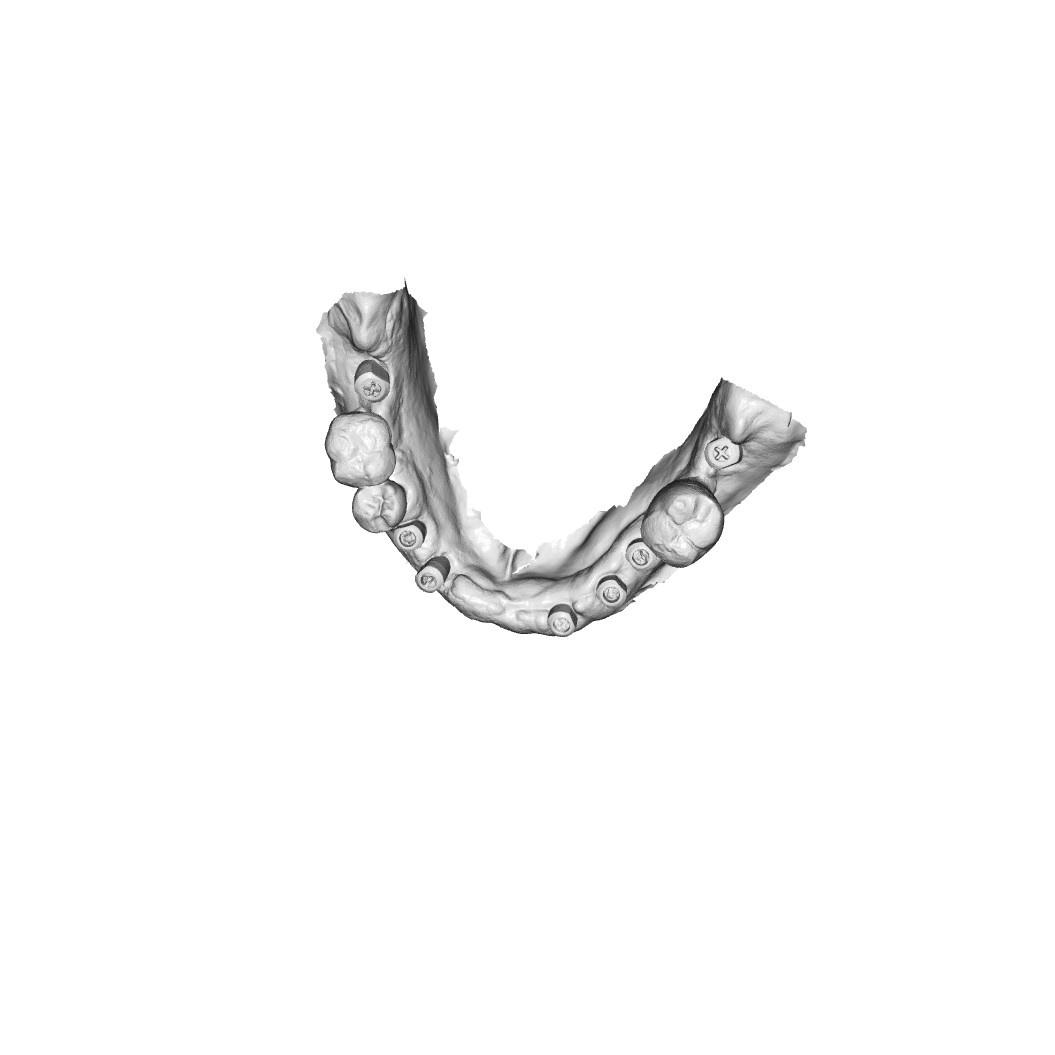implant: (624, 540, 661, 576), (414, 559, 448, 592), (548, 605, 579, 637), (599, 577, 625, 607), (397, 524, 423, 549)
implant_plus: (353, 358, 393, 407), (705, 437, 743, 473)
molar: (644, 478, 723, 569), (325, 415, 396, 492)
premolar: (348, 479, 408, 536)
